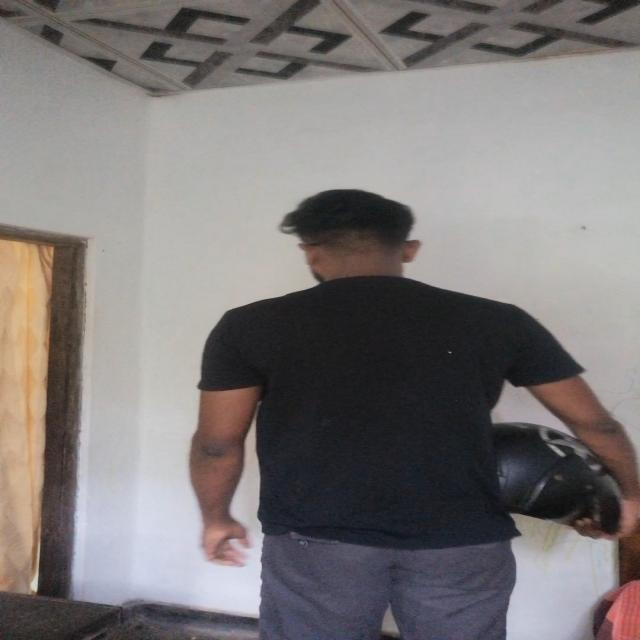Person: (191, 186, 640, 640)
